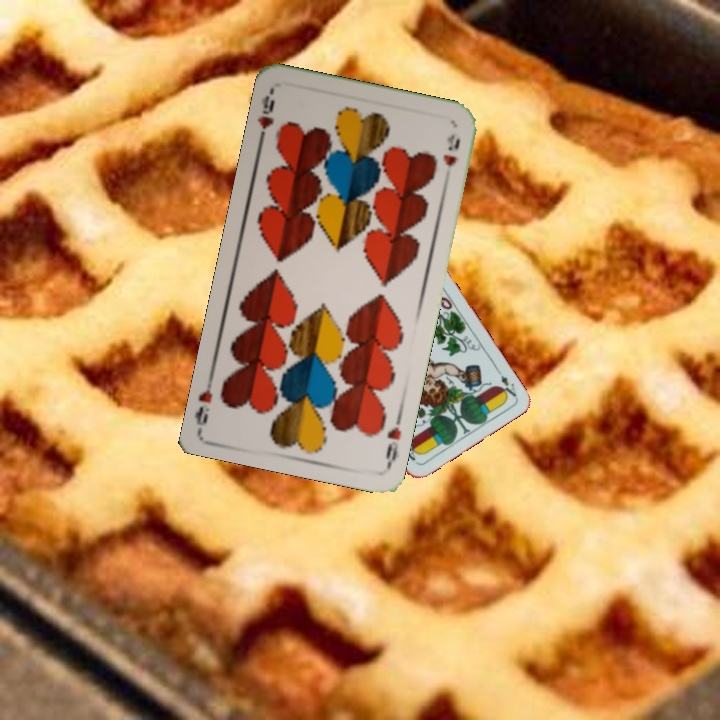EA: (491, 363, 519, 400)
H9: (381, 411, 405, 469), (254, 87, 277, 146)
